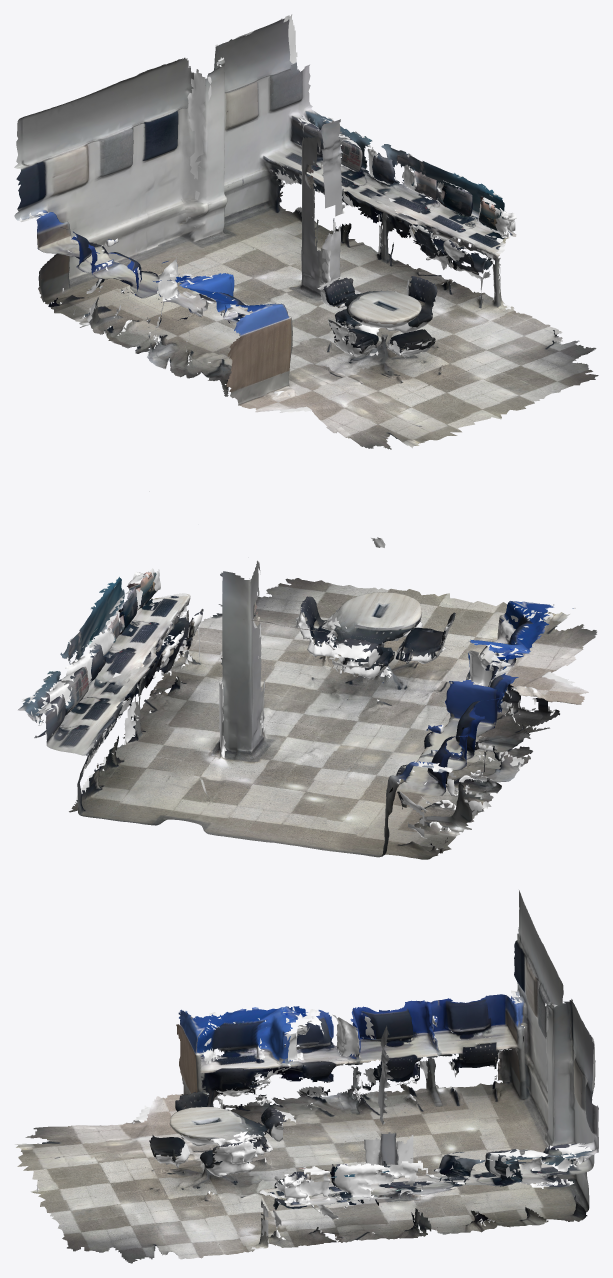
3 renders of one model, top to bottom at view 1: azimuth 30°, elevation 25°; view 2: azimuth 150°, elevation 25°; view 3: azimuth 270°, elevation 25°, orthographic. The views are drawn at different scales.
Visible parts, largest first — view 1: 5, 4, 3, 1, 2, 0; view 2: 2, 5, 4, 3, 1, 0; view 3: 5, 3, 1, 4, 0, 2.
Boxes of the visible parts, left/top/right/bottom form: 5: left=14, top=81, right=326, bottom=377; 4: left=137, top=18, right=497, bottom=329; 3: left=235, top=142, right=598, bottom=448; 1: left=38, top=57, right=450, bottom=449; 2: left=149, top=119, right=516, bottom=410; 0: left=19, top=14, right=516, bottom=413; 2: left=47, top=491, right=553, bottom=787; 5: left=163, top=630, right=528, bottom=859; 4: left=18, top=578, right=381, bottom=841; 3: left=106, top=578, right=569, bottom=757; 1: left=243, top=598, right=596, bottom=840; 0: left=21, top=537, right=583, bottom=849; 5: left=260, top=890, right=554, bottom=1185; 3: left=15, top=1014, right=452, bottom=1263; 1: left=25, top=948, right=563, bottom=1194; 4: left=159, top=1000, right=598, bottom=1250; 0: left=36, top=990, right=595, bottom=1256; 2: left=140, top=1006, right=536, bottom=1247.
Bounding box in the file's own units: 5.61 × 2.59 × 7.18.
Materials: 6 (5 with a texture image).
